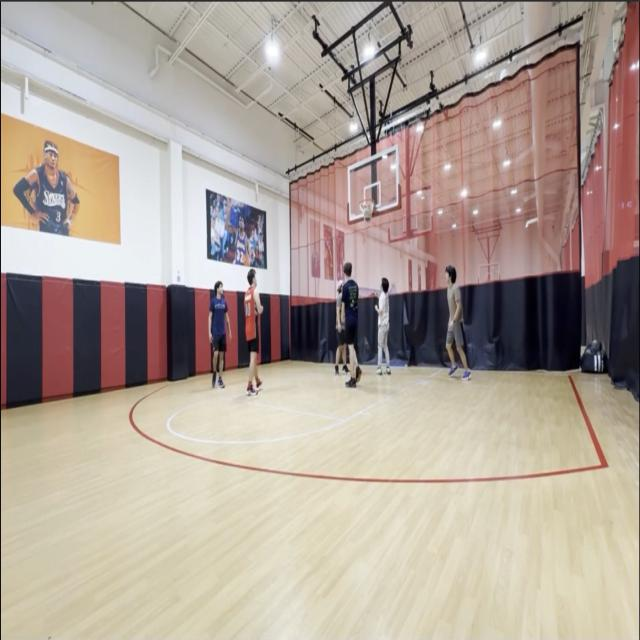Basketball: (365, 218, 370, 220)
Basketball Rim: (359, 198, 375, 218)
